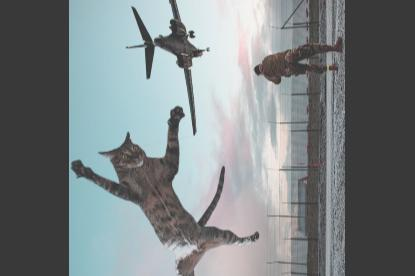AV8B: (126, 0, 212, 136)
